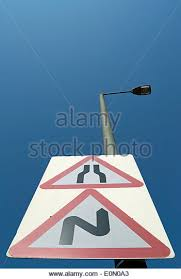Double_bend_right: (7, 190, 171, 258)
